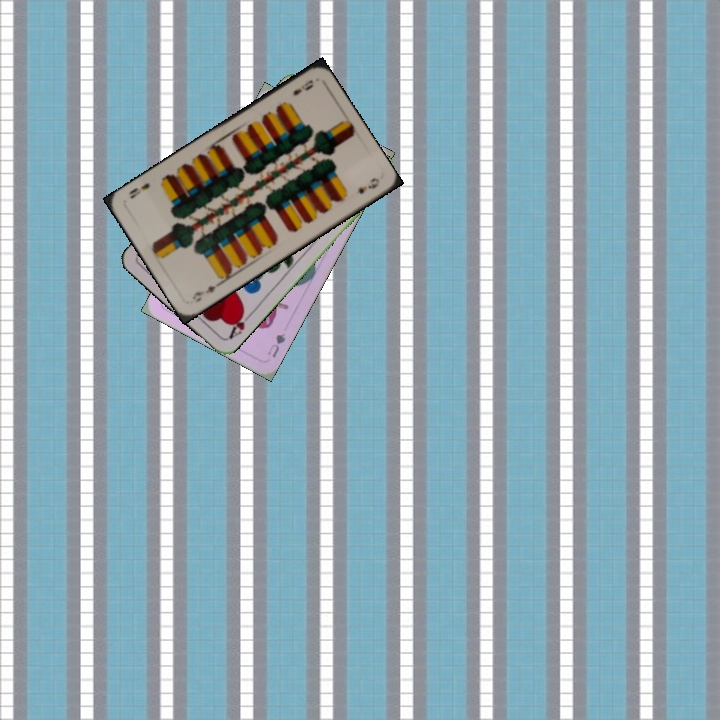E9: (188, 278, 224, 305), (289, 76, 316, 98)
GU: (263, 329, 288, 360)
HA: (224, 306, 256, 342)
